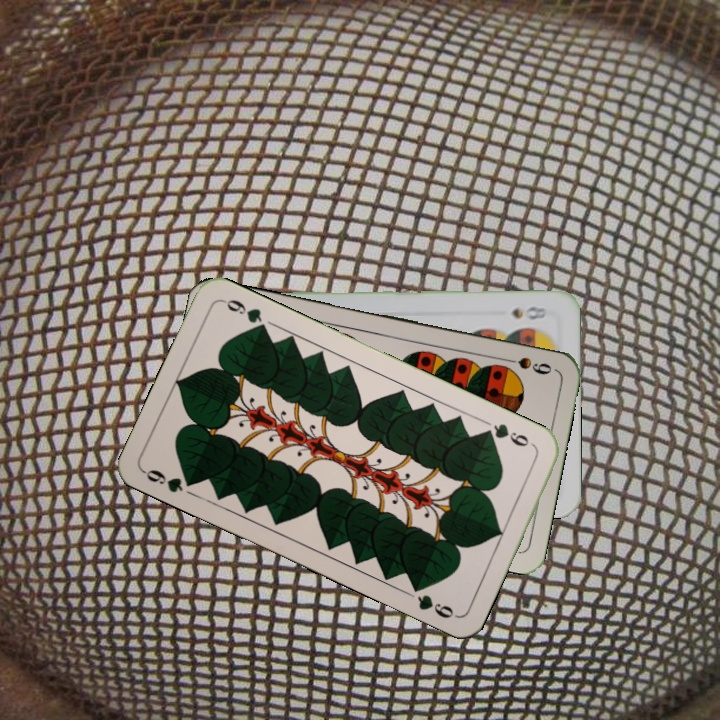G9: (478, 419, 538, 450), (140, 465, 200, 496)
S8: (507, 303, 549, 323)
S9: (497, 353, 555, 377)
